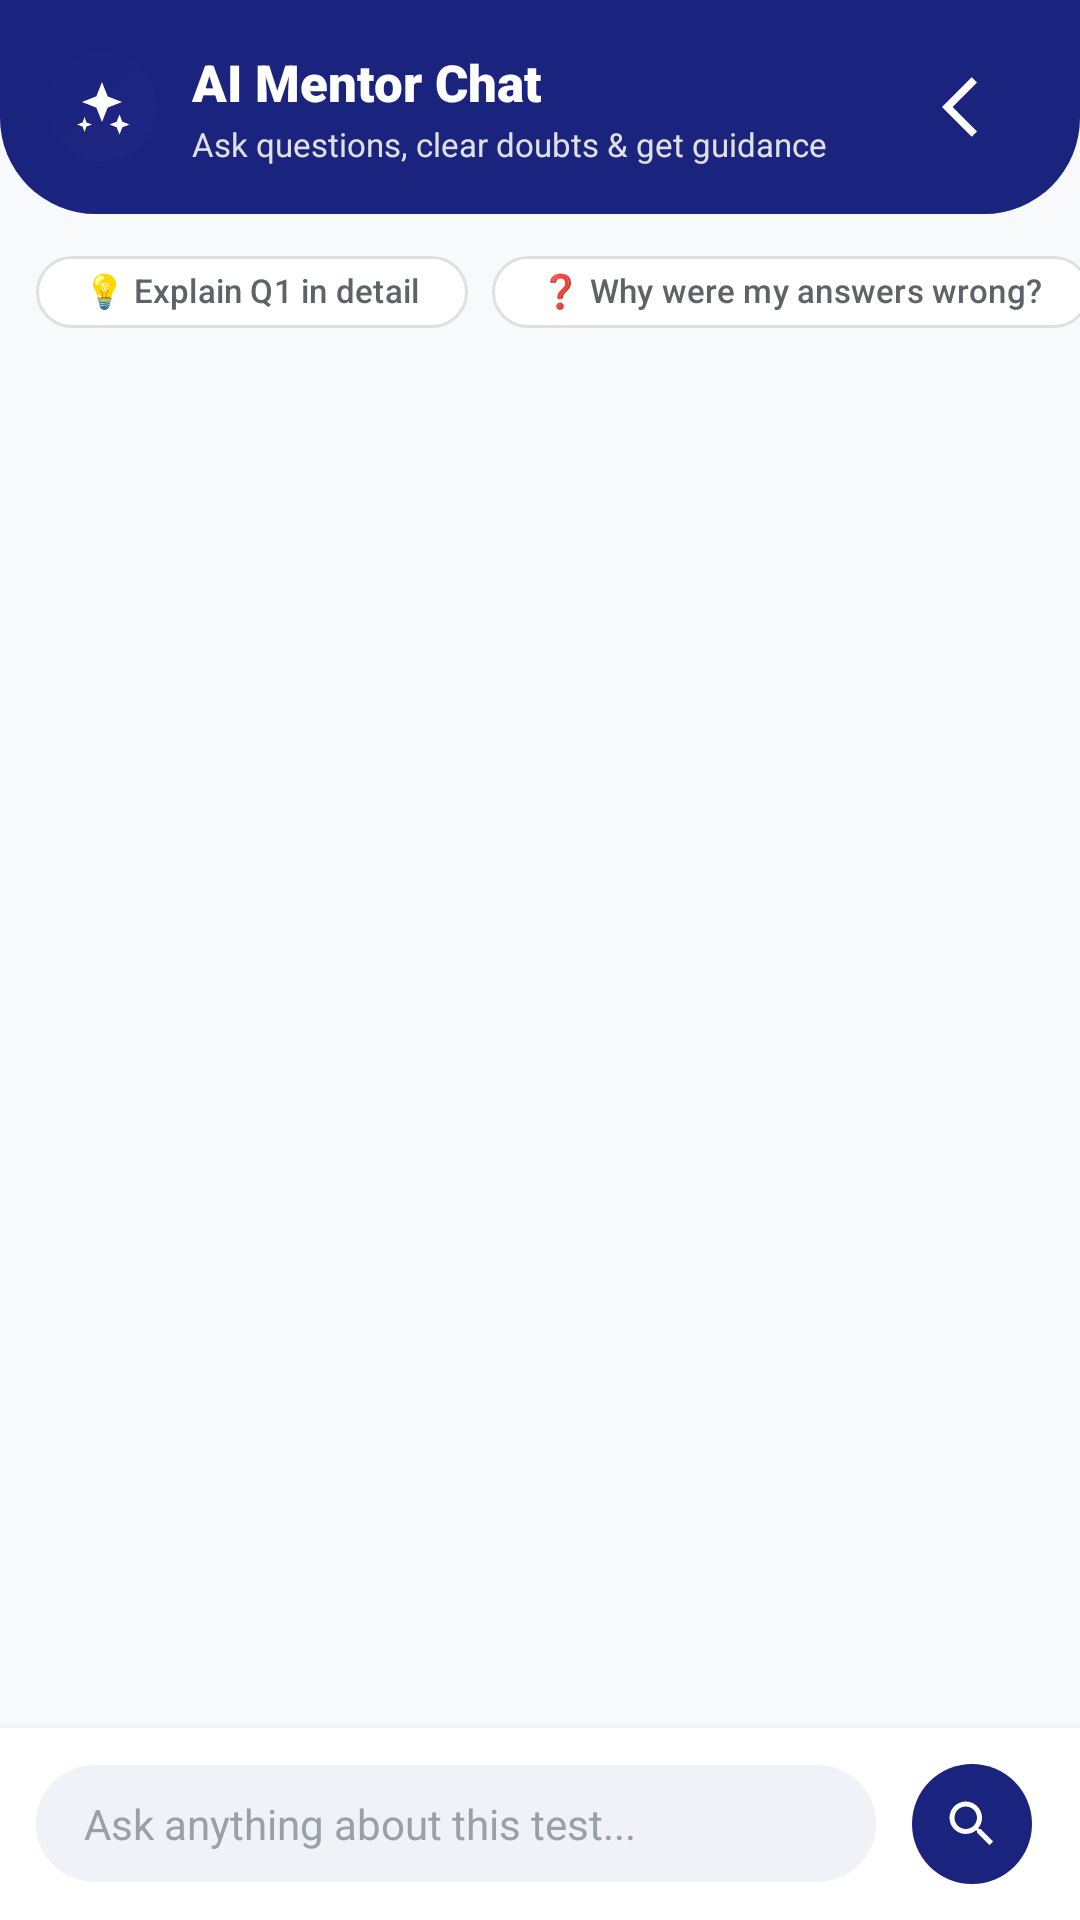

Icons on this 1080*1920 Android screen, each with the point to tap as [x,y]:
Close Chat: [959,107]
search: [972,1824]
